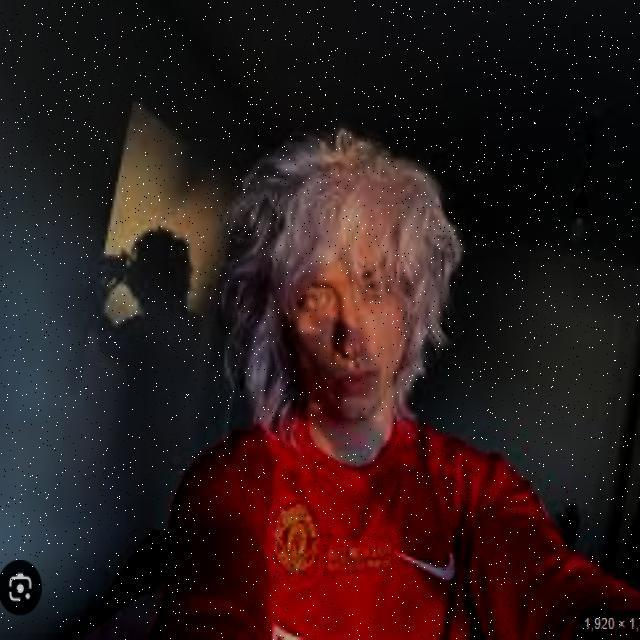face_no_mask: (288, 245, 412, 425)
